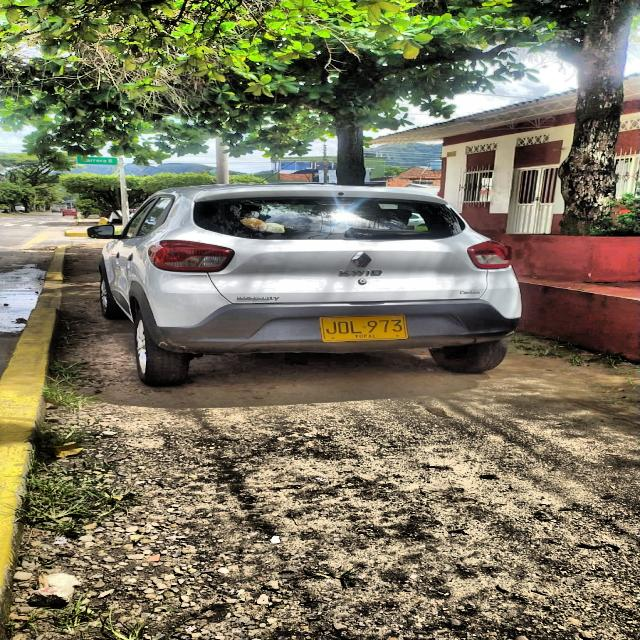plate: (321, 315, 407, 341)
